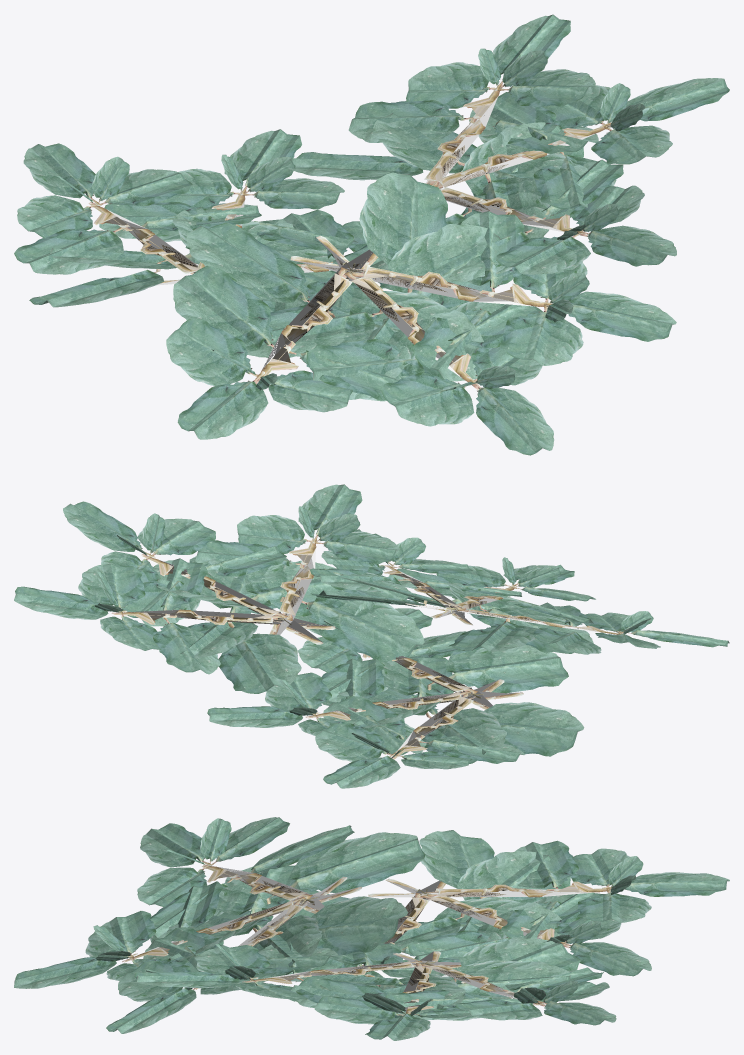
The model's file is Leef_31.glb.
3 views of the same model, one above another, from view 1: azimuth 30°, elevation 25°; view 2: azimuth 150°, elevation 25°; view 3: azimuth 270°, elevation 25° (orthographic). The views are drawn at different scales.
Visible parts, largest first — view 1: Plane.010; view 2: Plane.010; view 3: Plane.010.
Boxes of the visible parts, <box> form: Plane.010: <box>14,14,729,455</box>; Plane.010: <box>14,484,729,788</box>; Plane.010: <box>14,817,729,1040</box>.
Size of the model in its own units: 5.97 by 1.14 by 5.99.
1 material, 1 textured.
